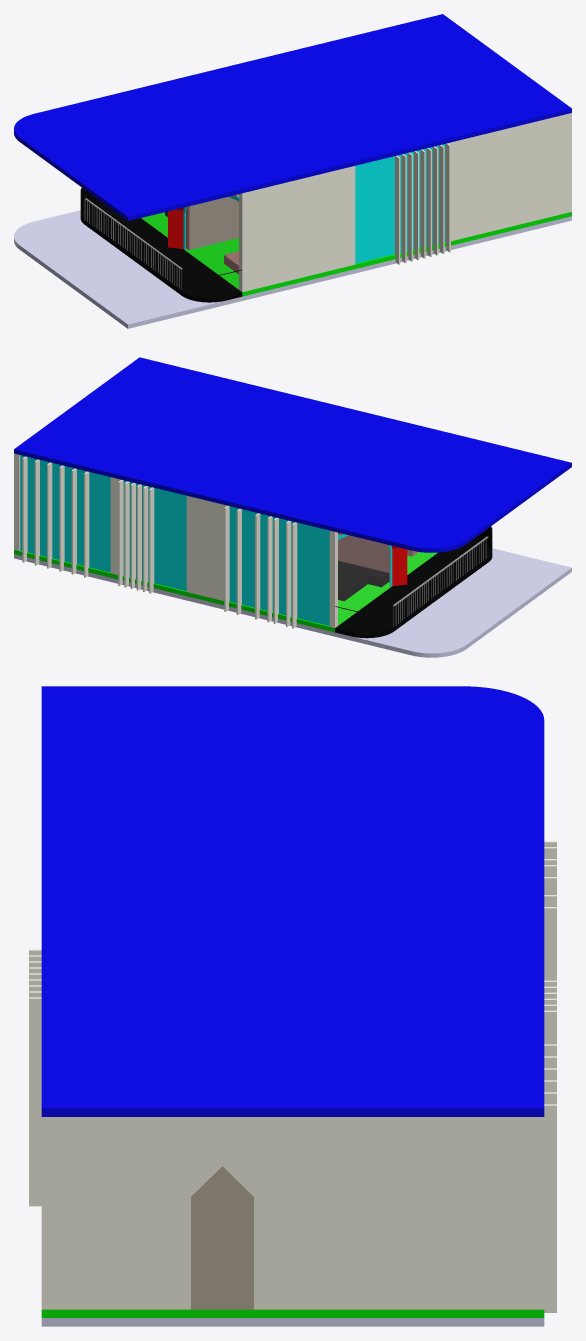
The picture shows the model from 3 angles, top to bottom: view 1: azimuth 30°, elevation 25°; view 2: azimuth 150°, elevation 25°; view 3: azimuth 270°, elevation 25°; orthographic projection. The views are drawn at different scales.
Visible parts, largest first — view 1: slabs, EXTERNAL WALLS, FLOOR PLATES, glasses, object 58, floors, internal walls, railings, columns; view 2: slabs, glasses, EXTERNAL WALLS, FLOOR PLATES, object 58, floors, internal walls, railings, object 56, columns; view 3: slabs, EXTERNAL WALLS, FLOOR PLATES, floors.
Part boxes in pixels (left/top/right/bottom): slabs: left=14, top=14, right=571, bottom=220; EXTERNAL WALLS: left=239, top=113, right=571, bottom=292; FLOOR PLATES: left=14, top=210, right=571, bottom=328; glasses: left=142, top=144, right=445, bottom=288; object 58: left=80, top=201, right=242, bottom=302; floors: left=141, top=212, right=571, bottom=296; internal walls: left=186, top=194, right=238, bottom=274; railings: left=84, top=198, right=182, bottom=289; columns: left=168, top=195, right=237, bottom=248; slabs: left=14, top=357, right=571, bottom=552; glasses: left=20, top=455, right=436, bottom=625; EXTERNAL WALLS: left=14, top=453, right=337, bottom=628; FLOOR PLATES: left=14, top=548, right=571, bottom=657; object 58: left=335, top=540, right=492, bottom=638; floors: left=14, top=550, right=437, bottom=632; internal walls: left=338, top=532, right=418, bottom=572; railings: left=393, top=536, right=488, bottom=626; object 56: left=338, top=560, right=375, bottom=601; columns: left=339, top=533, right=407, bottom=586; slabs: left=41, top=686, right=544, bottom=1116; EXTERNAL WALLS: left=29, top=841, right=556, bottom=1312; FLOOR PLATES: left=41, top=1318, right=544, bottom=1326; floors: left=41, top=1309, right=544, bottom=1317.
Bounding box in the file's own units: 15.89 × 3.83 × 8.4.
